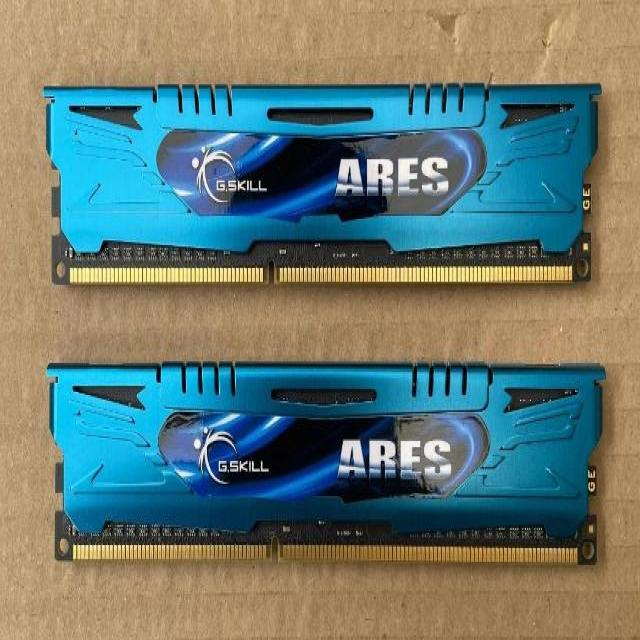RAM: (44, 359, 608, 569), (41, 80, 604, 288)
